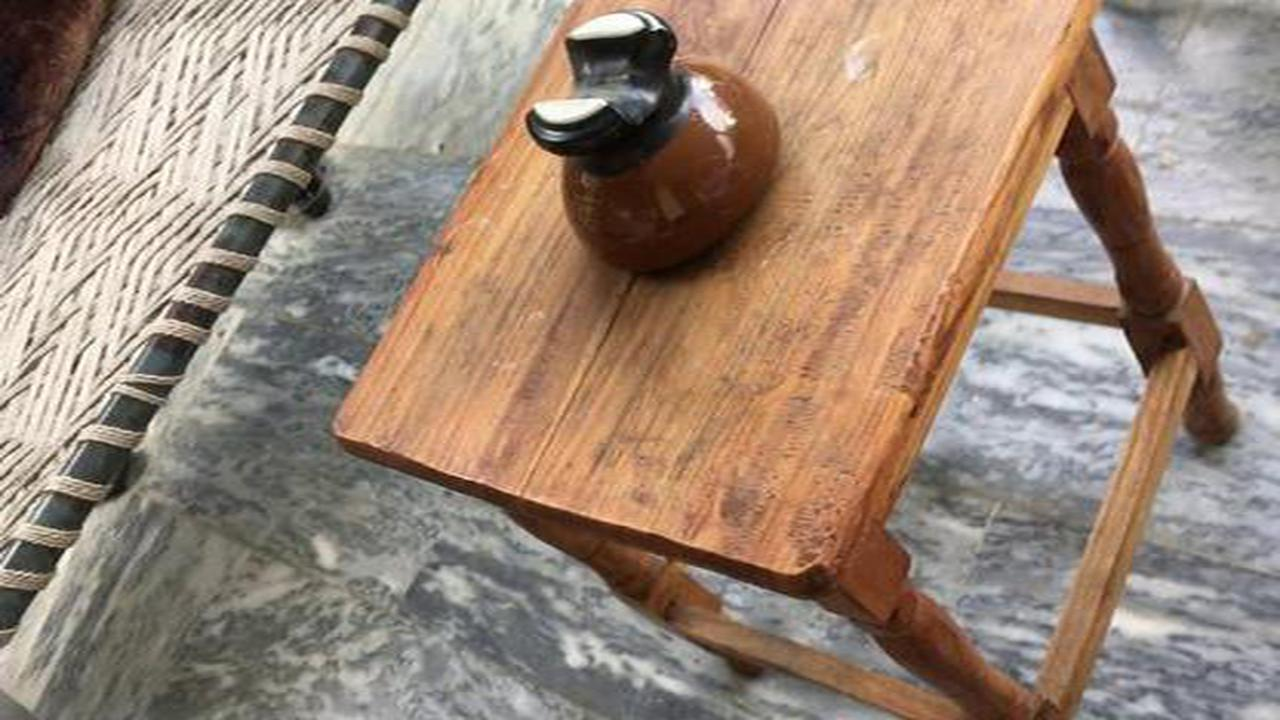insulator_pin: (517, 6, 794, 298)
